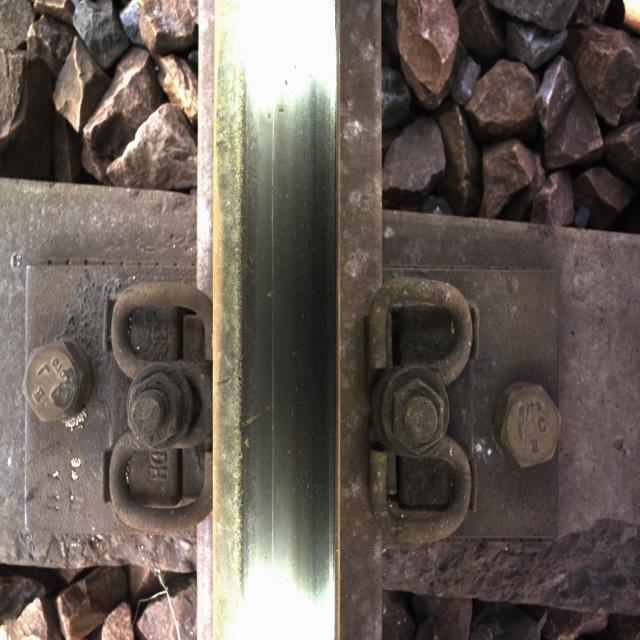crack: (208, 0, 272, 601)
